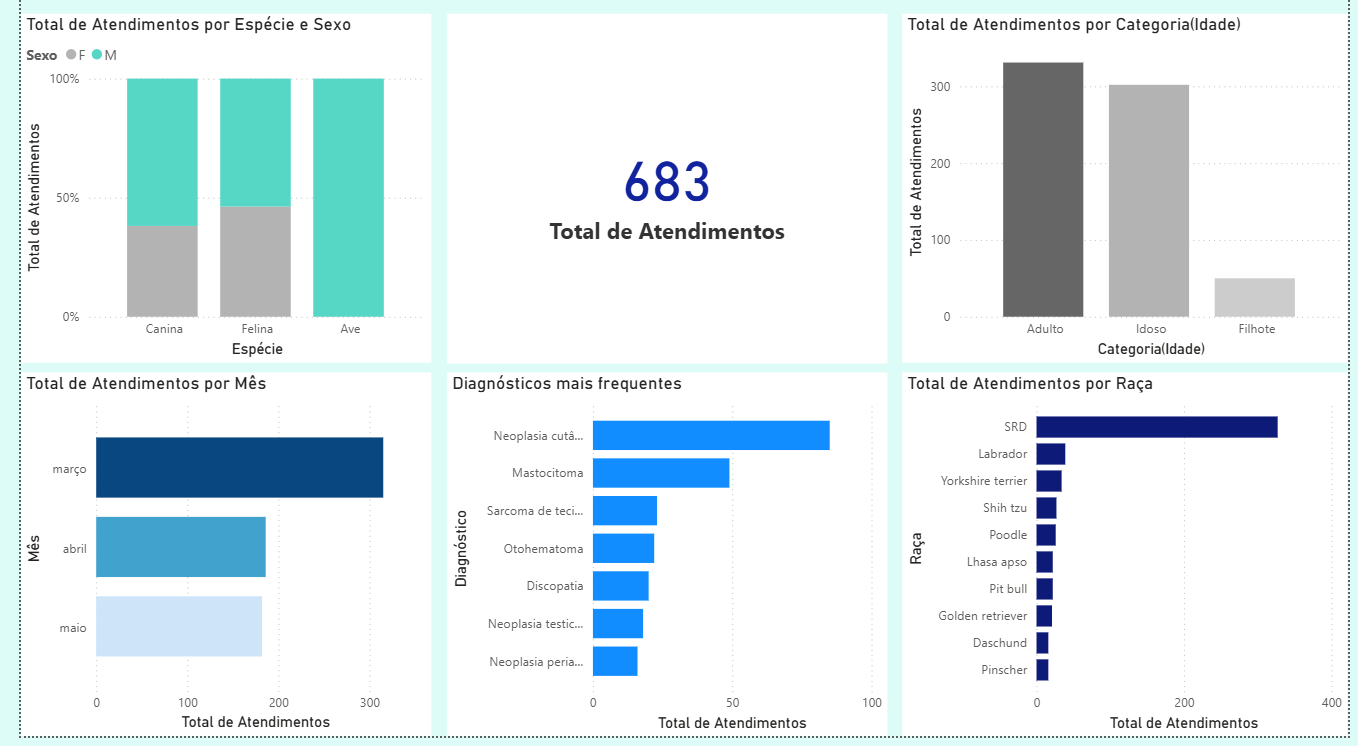

Layout of this report page (visuals, bound fields, positions):
{"tool":"powerbi","page":{"name":"dashboard_vet","canvas":[1280,720],"ordinal":0},"visuals":[{"type":"card","fields":{"Values":["tabelaCasos.Total de Atendimentos"]},"box":[421,13.3,476.5,346.2],"z":0},{"type":"hundredPercentStackedColumnChart","fields":{"Category":["tabelaCasos.Espécie"],"Series":["tabelaCasos.Sexo"],"Y":["tabelaCasos.Total de Atendimentos"]},"box":[10.9,13.3,399.3,346.2],"z":1000},{"type":"clusteredBarChart","fields":{"Category":["tabelaCasos.Data da consulta.Variation.Hierarquia de datas.Mês"],"Y":["tabelaCasos.Total de Atendimentos"]},"box":[10.9,370.4,399.3,336.6],"z":2000},{"type":"clusteredBarChart","title":"Diagnósticos mais frequentes","fields":{"Category":["tabelaCasos.Diagnóstico"],"Y":["tabelaCasos.Total de Atendimentos"]},"box":[421,370.4,476.5,336.6],"z":3000},{"type":"clusteredColumnChart","fields":{"Category":["tabelaCasos.Categoria(Idade)"],"Y":["tabelaCasos.Total de Atendimentos"]},"box":[906,13.3,374,346.2],"z":4000},{"type":"clusteredBarChart","fields":{"Y":["tabelaCasos.Total de Atendimentos"],"Category":["tabelaCasos.Raça"]},"box":[906,370.4,374,336.6],"z":5000}]}

Visuals, with their boxes in screenshot pixels (x1, y1, x2, y2), scaled from the page's 1280x720 canvas onto the 1358x746 screenshot:
card - tabelaCasos.Total de Atendimentos: [447, 14, 952, 372]
hundredPercentStackedColumnChart - tabelaCasos.Espécie x tabelaCasos.Sexo: [12, 14, 435, 372]
clusteredBarChart - tabelaCasos.Data da consulta.Variation.Hierarquia de datas.Mês x tabelaCasos.Total de Atendimentos: [12, 384, 435, 733]
"Diagnósticos mais frequentes" clusteredBarChart: [447, 384, 952, 733]
clusteredColumnChart - tabelaCasos.Categoria(Idade) x tabelaCasos.Total de Atendimentos: [961, 14, 1357, 372]
clusteredBarChart - tabelaCasos.Total de Atendimentos x tabelaCasos.Raça: [961, 384, 1357, 733]
